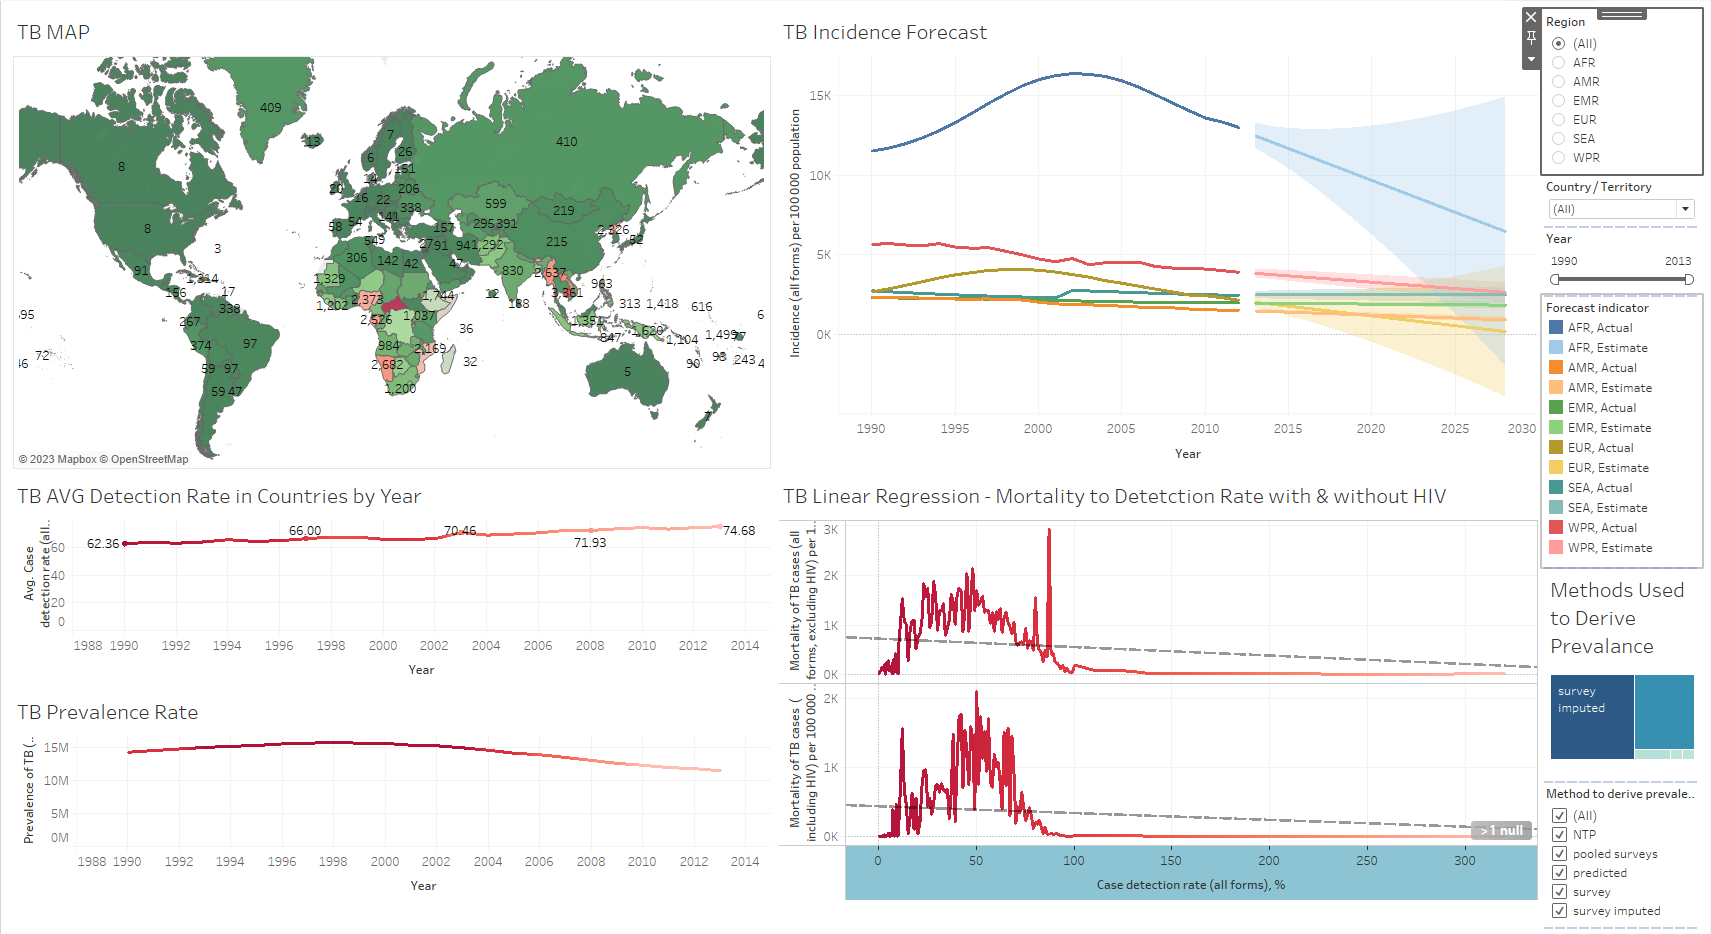

What the dashboard file says about the page in this screenshot:
{"tool":"tableau","page":{"name":"Dashboard","canvas":[1000,1000],"units":"permille","ordinal":0},"visuals":[{"type":"worksheet","title":"TB MAP","mark":"Multipolygon","box":[3.4,6.4,462.5,493.6]},{"type":"worksheet","title":"TB Incidence Forecast","mark":"Automatic","rows":["Estimated incidence (all forms) per 100 000 population"],"cols":["Year"],"box":[465.9,6.4,462.6,493.6]},{"type":"filter","title":"TB MAP","param":"[federated.0v1vb0l15c4vrd1grba6y0xbrswu].[none:Region:nk]","box":[928.5,6.4,68.1,131.4]},{"type":"filter","title":"TB MAP","param":"[federated.0v1vb0l15c4vrd1grba6y0xbrswu].[none:Country or territory name:nk]","box":[928.5,137.7,68.1,41.4]},{"type":"filter","title":"TB Incidence Forecast","param":"[federated.0v1vb0l15c4vrd1grba6y0xbrswu].[none:Year:qk]","box":[928.5,179.1,68.1,54.9]},{"type":"legend","title":"TB Incidence Forecast","param":"[federated.0v1vb0l15c4vrd1grba6y0xbrswu].[none:Region:nk]\n[federated.0v1vb0l15c4","box":[928.5,234.1,68.1,216.6]},{"type":"worksheet","title":"Methods Used to Derive Prevalance ","mark":"Automatic","box":[928.5,450.6,68.1,170.4]},{"type":"worksheet","title":"TB AVG Detection Rate in Countries by Year","mark":"Automatic","rows":["Case detection rate (all forms), percent"],"cols":["Year"],"box":[3.4,500,462.5,229.8]},{"type":"worksheet","title":"TB Linear Regression - Mortality to Detetction Rate with & without HIV","mark":"Automatic","rows":["Estimated mortality of TB cases who are HIV-positive, per 10"],"cols":["Case detection rate (all forms), percent"],"box":[465.9,500,462.6,459.6]},{"type":"filter","title":"Methods Used to Derive Prevalance ","param":"[federated.0v1vb0l15c4vrd1grba6y0xbrswu].[none:Method to derive prevalence estim","box":[928.5,621,68.1,116.2]},{"type":"worksheet","title":"TB Prevalence Rate","mark":"Automatic","rows":["Estimated prevalence of TB (all forms)"],"cols":["Year"],"box":[3.4,729.8,462.5,229.8]},{"type":"blank","box":[3.4,959.6,925.1,34]}]}

Visuals, with their boxes on the dashboard's canvas, which has no fixed pixel size, in thousandths of its width and height (x1, y1, x2, y2). These are canvas units, not pixel positions in the 1711x934 screenshot, which may show the page scaled, cropped or inside an application window:
"TB MAP" worksheet (Multipolygon marks): (x1=3, y1=6, x2=466, y2=500)
"TB Incidence Forecast" worksheet: (x1=466, y1=6, x2=928, y2=500)
"TB MAP" filter: (x1=928, y1=6, x2=997, y2=138)
"TB MAP" filter: (x1=928, y1=138, x2=997, y2=179)
"TB Incidence Forecast" filter: (x1=928, y1=179, x2=997, y2=234)
"TB Incidence Forecast" legend: (x1=928, y1=234, x2=997, y2=451)
"Methods Used to Derive Prevalance " worksheet: (x1=928, y1=451, x2=997, y2=621)
"TB AVG Detection Rate in Countries by Year" worksheet: (x1=3, y1=500, x2=466, y2=730)
"TB Linear Regression - Mortality to Detetction Rate with & without HIV" worksheet: (x1=466, y1=500, x2=928, y2=960)
"Methods Used to Derive Prevalance " filter: (x1=928, y1=621, x2=997, y2=737)
"TB Prevalence Rate" worksheet: (x1=3, y1=730, x2=466, y2=960)
blank: (x1=3, y1=960, x2=928, y2=994)
